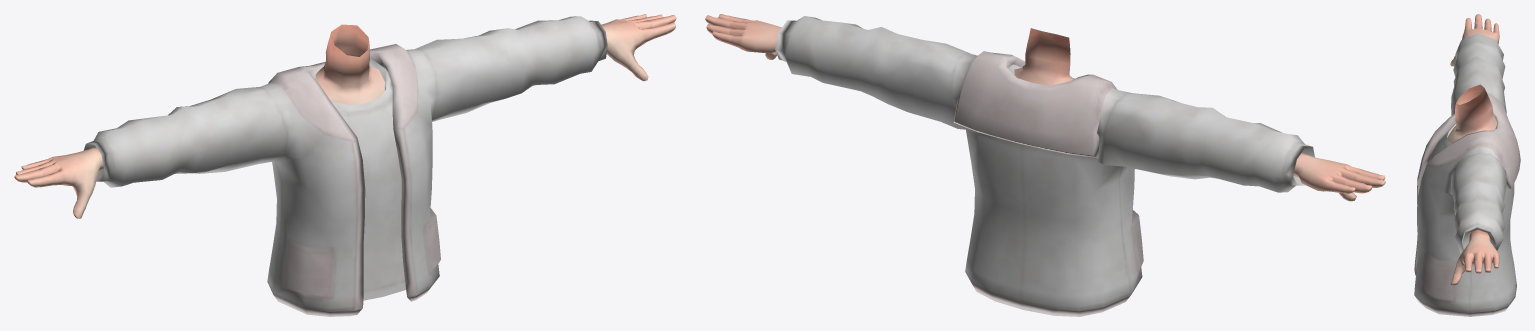
File: tr0750_00_upb02.gltf
3 renders of one model, left to right at view 1: azimuth 30°, elevation 25°; view 2: azimuth 150°, elevation 25°; view 3: azimuth 270°, elevation 25°, orthographic. The views are drawn at different scales.
Visible parts, largest first — view 1: upb02_cloth_mesh_shape:upperbody02, upb02_skin_mesh_shape:upperbody02_skin; view 2: upb02_cloth_mesh_shape:upperbody02, upb02_skin_mesh_shape:upperbody02_skin; view 3: upb02_cloth_mesh_shape:upperbody02, upb02_skin_mesh_shape:upperbody02_skin.
Part boxes in pixels (bbox=[...]): upb02_cloth_mesh_shape:upperbody02: bbox=[83, 16, 607, 316]; upb02_skin_mesh_shape:upperbody02_skin: bbox=[14, 14, 676, 218]; upb02_cloth_mesh_shape:upperbody02: bbox=[775, 16, 1314, 316]; upb02_skin_mesh_shape:upperbody02_skin: bbox=[705, 14, 1385, 201]; upb02_cloth_mesh_shape:upperbody02: bbox=[1414, 33, 1520, 316]; upb02_skin_mesh_shape:upperbody02_skin: bbox=[1447, 14, 1499, 285].
Size of what is drawn, in the model's own units: 1.63 by 0.6098 by 0.2863.
2 materials, 2 textured.
